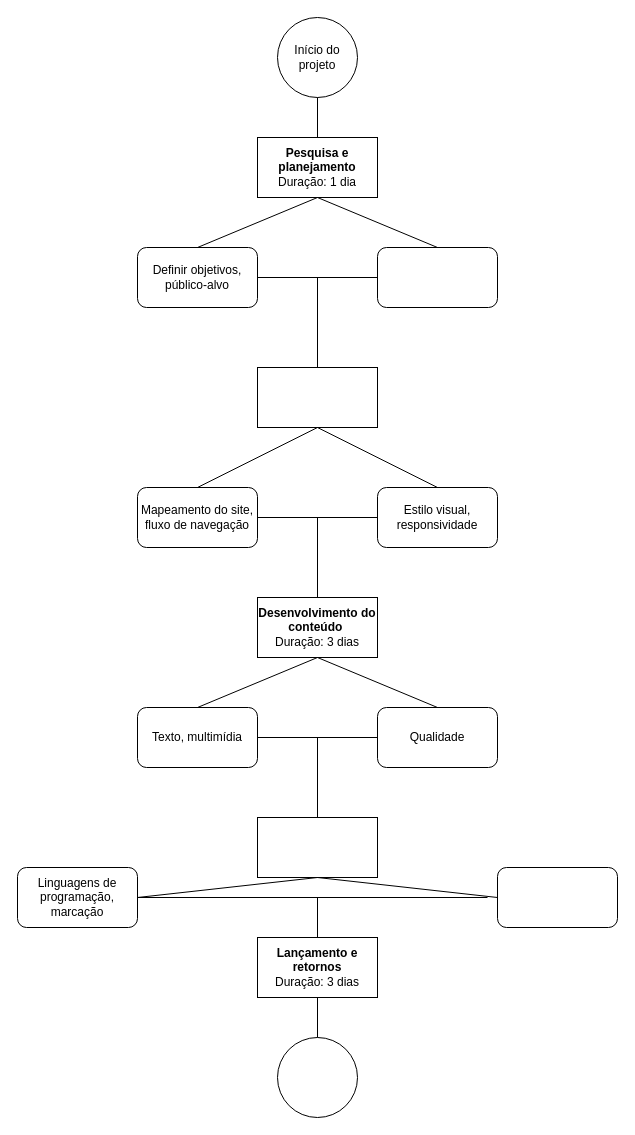
Image size: 635x1135. Some labels were removed from this diagram. Each missing label, with the centre of its shape:
Desenvolvimento do site Duração: 5 dias: the point at 317,847
Estrutura e design Duração: 2 dias: the point at 317,397
Fim do projeto: the point at 317,1077
Informações relevantes, concorrência: the point at 437,277
Testes, resoluções de problemas: the point at 557,897
